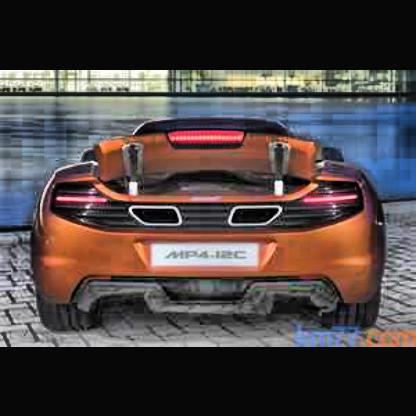McLaren MP4-12C Coupe 2012: (36, 121, 382, 331)
